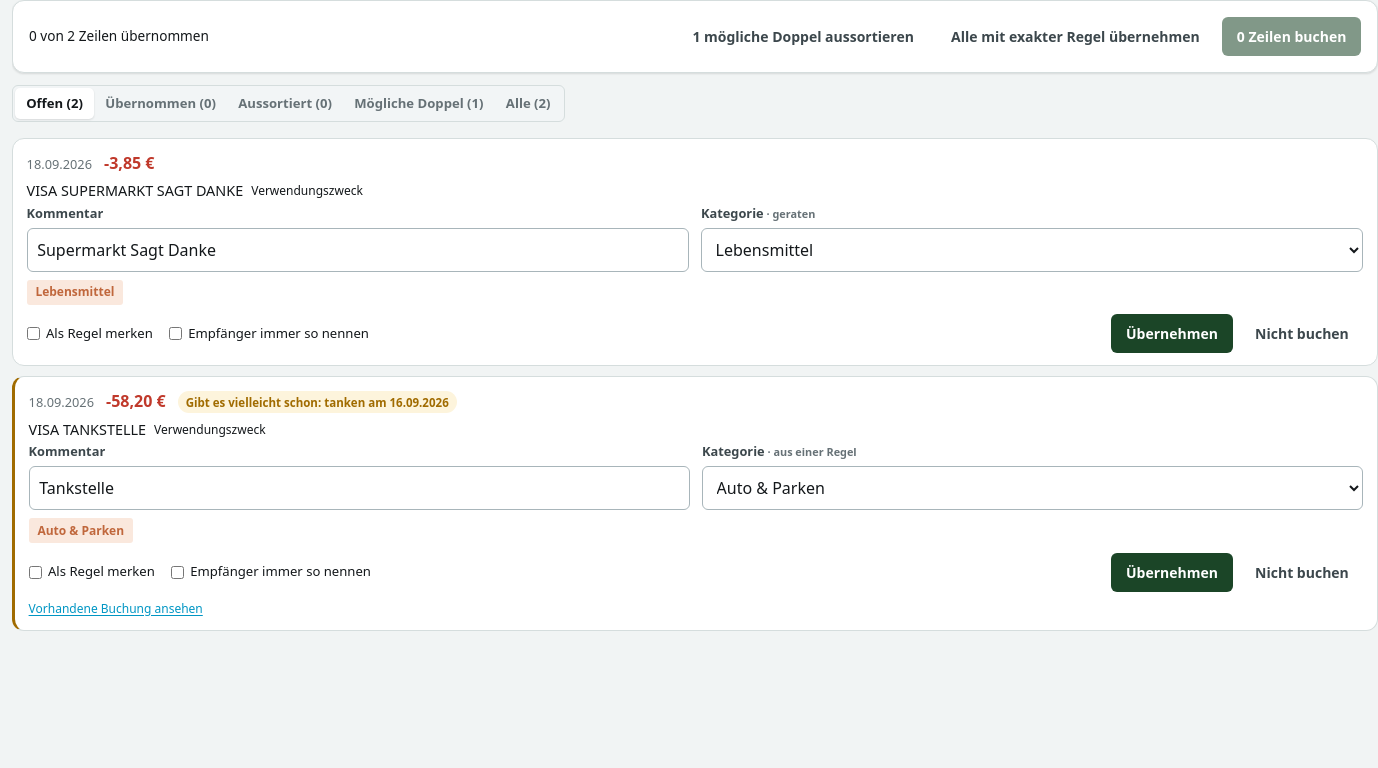
Test: the bank statement review › shows what the bank wrote beside what the app guessed
Expected: the text "VISA SUPERMARKT SAGT DANKE" is shown, [27,180,243,202]
Expected: the field labelled "Kommentar" below "geraten" holds "Supermarkt Sagt Danke", [27,228,689,272]
Click the button "Verwendungszweck" next to "VISA SUPERMARKT SAGT DANKE": x=307, y=191 [251,180,363,202]
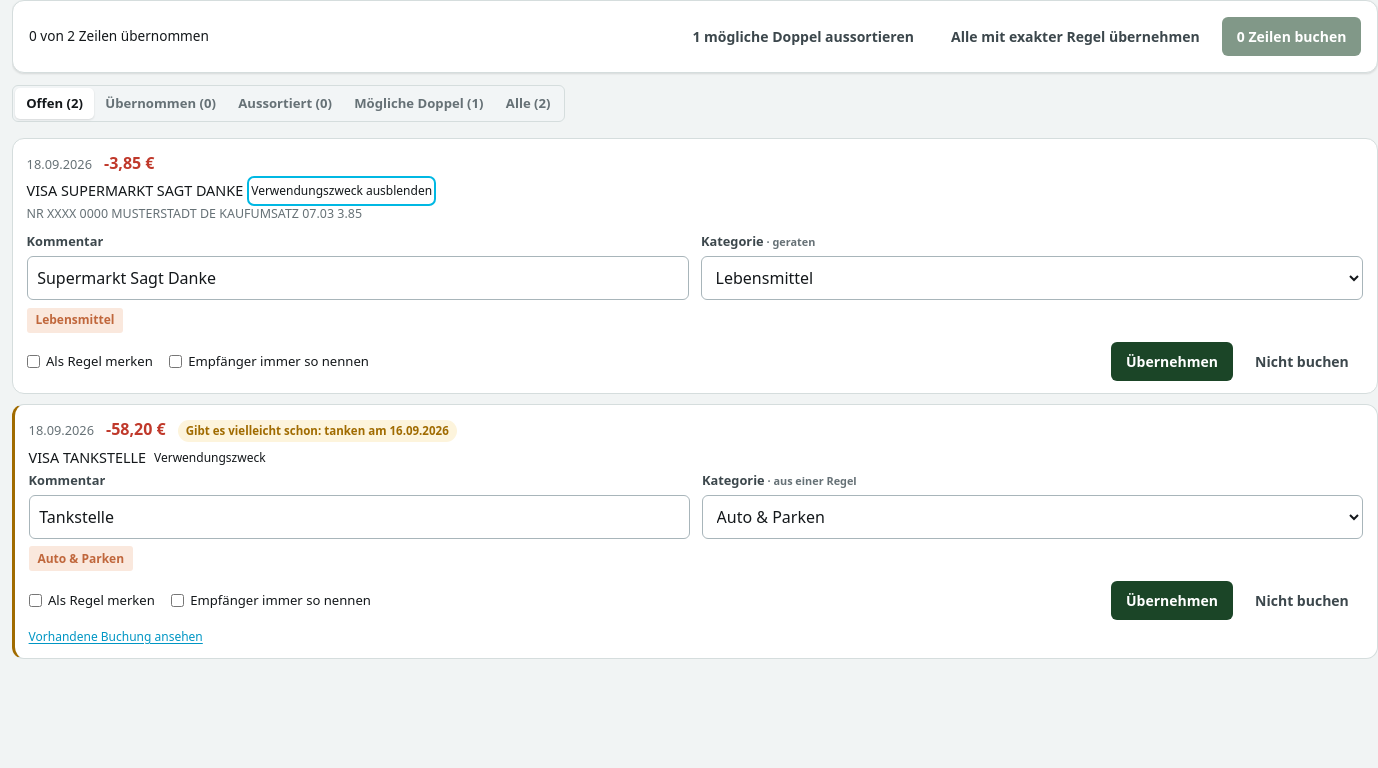
Expected: the text "NR XXXX 0000 MUSTERSTADT DE KAUFUMSATZ 07.03 3.85" is shown, [27,205,362,222]
